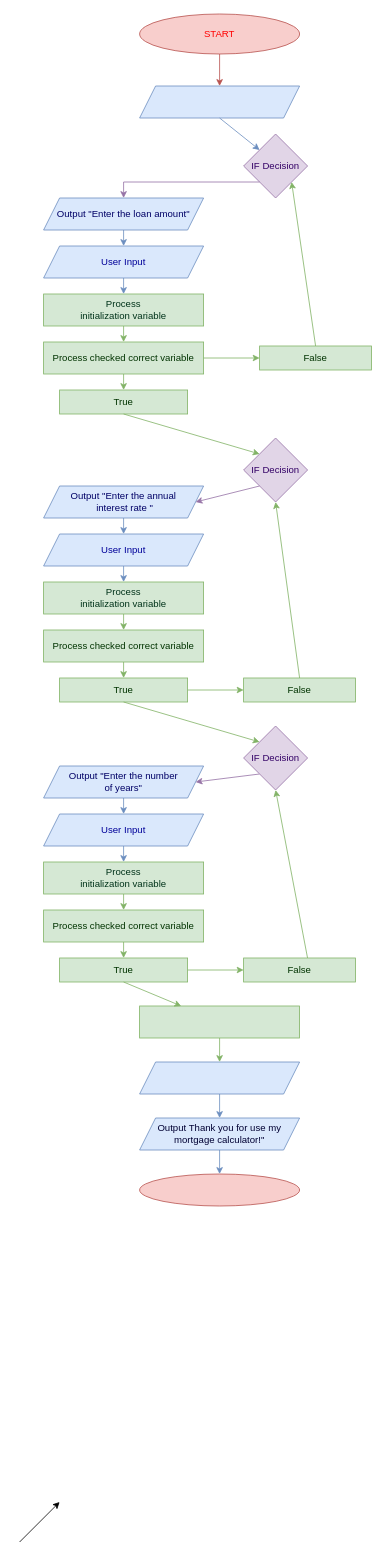
The diagram is 386 pixels wide and 1562 high, and some of its shapes have lost their labels. The centre of each missing label's shape, as x and y in pixels:
FINISH: [219,1189]
Output "The mortgage is $": [219,1077]
Process Calculate: [219,1021]
Welcome message: [219,101]
